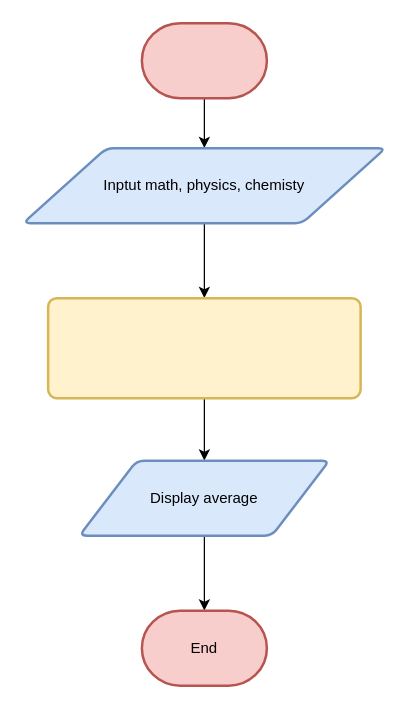
This 408x708 diagram has some shape labels left out. Each missing label, with the centre of its shape:
"average = (math + physics + cheisty)/3" belongs at (x=203, y=347).
"Begin" belongs at (x=204, y=60).
